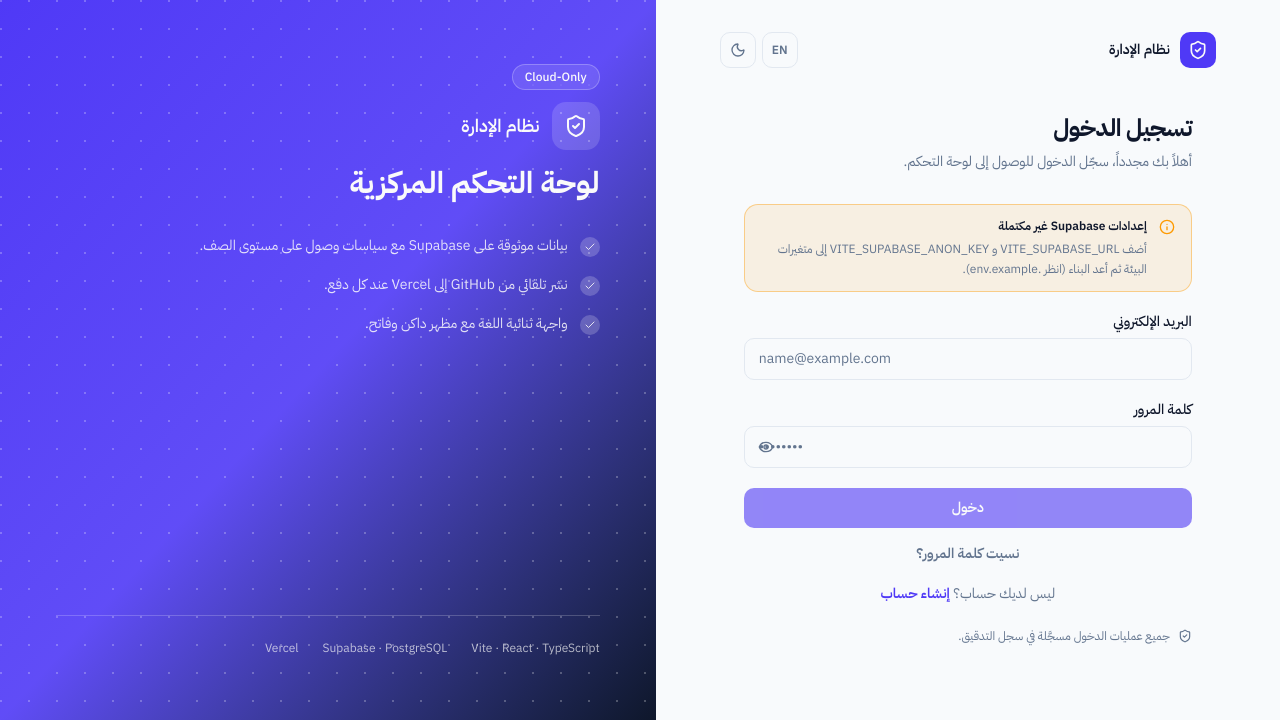
Test: Login — forgot password (manual approval request) › opens the request form from the sign-in screen and returns back to it
Click the button "نسيت كلمة المرور؟".
click(968, 554)  # box x1=916 y1=544 x2=1019 y2=564
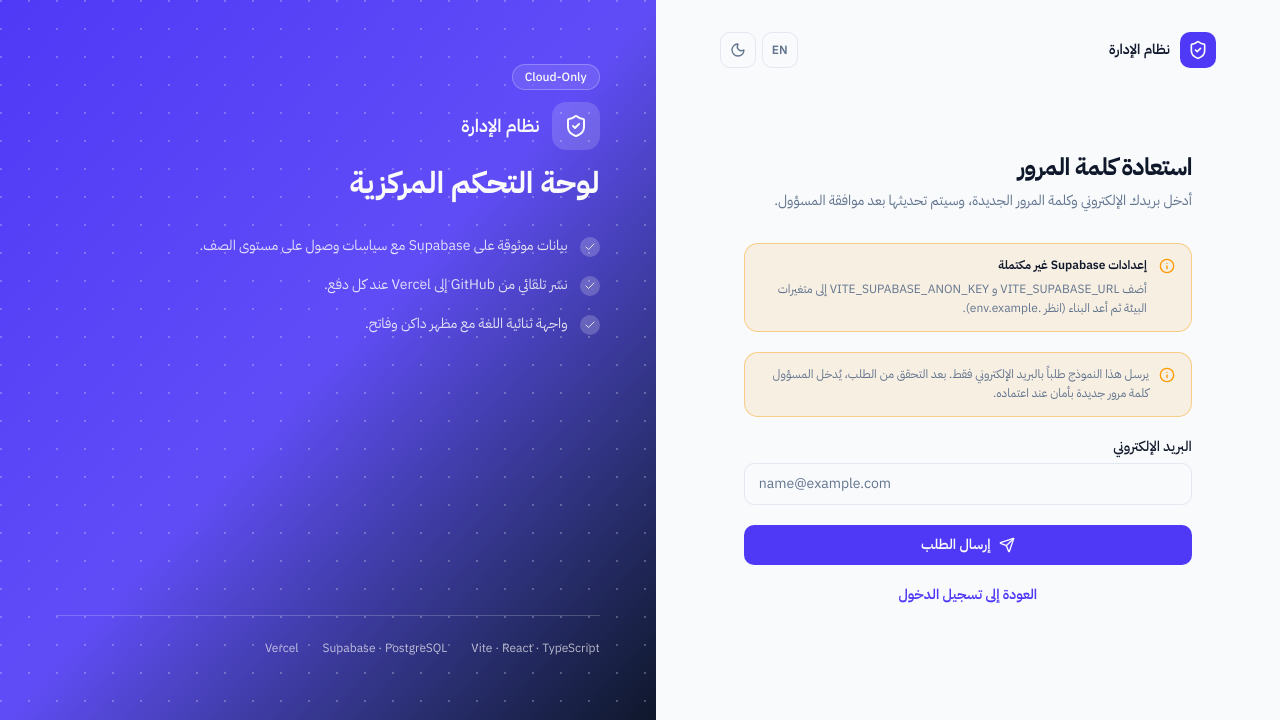
Result: the heading "استعادة كلمة المرور" is shown at x1=1018 y1=149 x2=1192 y2=185
Result: the field labelled "البريد الإلكتروني" is shown at x1=744 y1=463 x2=1192 y2=505
Result: the text "يرسل هذا النموذج طلباً بالبريد الإلكتروني فقط" is shown at x1=773 y1=365 x2=1149 y2=402
Click the button "العودة إلى تسجيل الدخول".
click(968, 595)  # box x1=898 y1=585 x2=1037 y2=605
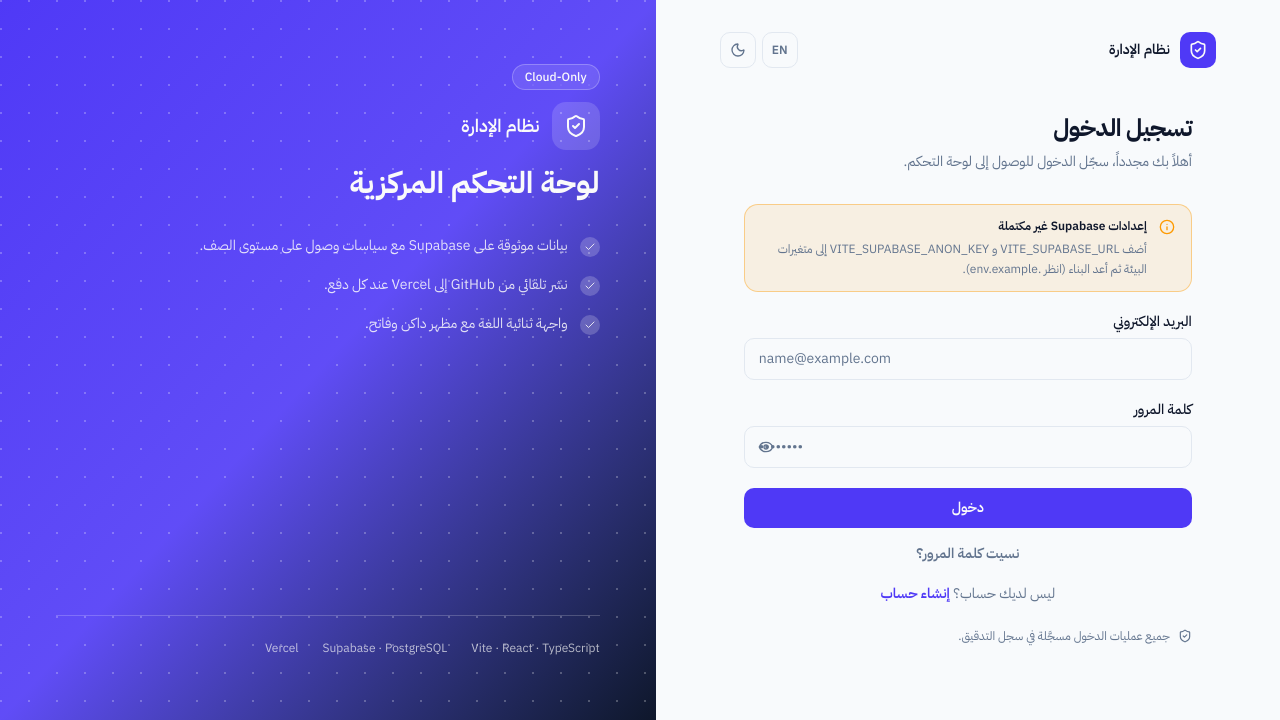
Result: the heading "تسجيل الدخول" is shown at x1=1053 y1=110 x2=1192 y2=146
Result: the password field labelled "كلمة المرور" is shown at x1=744 y1=426 x2=1192 y2=468
